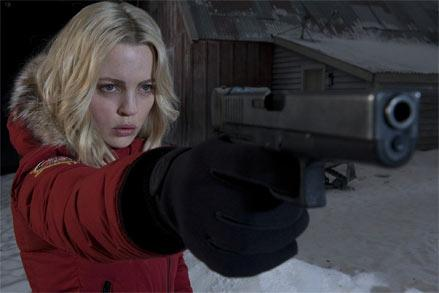Gun: (208, 84, 414, 190)
